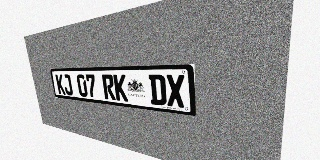0: (76, 74, 88, 97)
7: (85, 74, 98, 98)
D: (148, 74, 167, 106)
J: (62, 74, 73, 96)
K: (113, 74, 128, 102), (55, 74, 66, 95)
R: (102, 74, 116, 100)
X: (166, 74, 185, 108)
